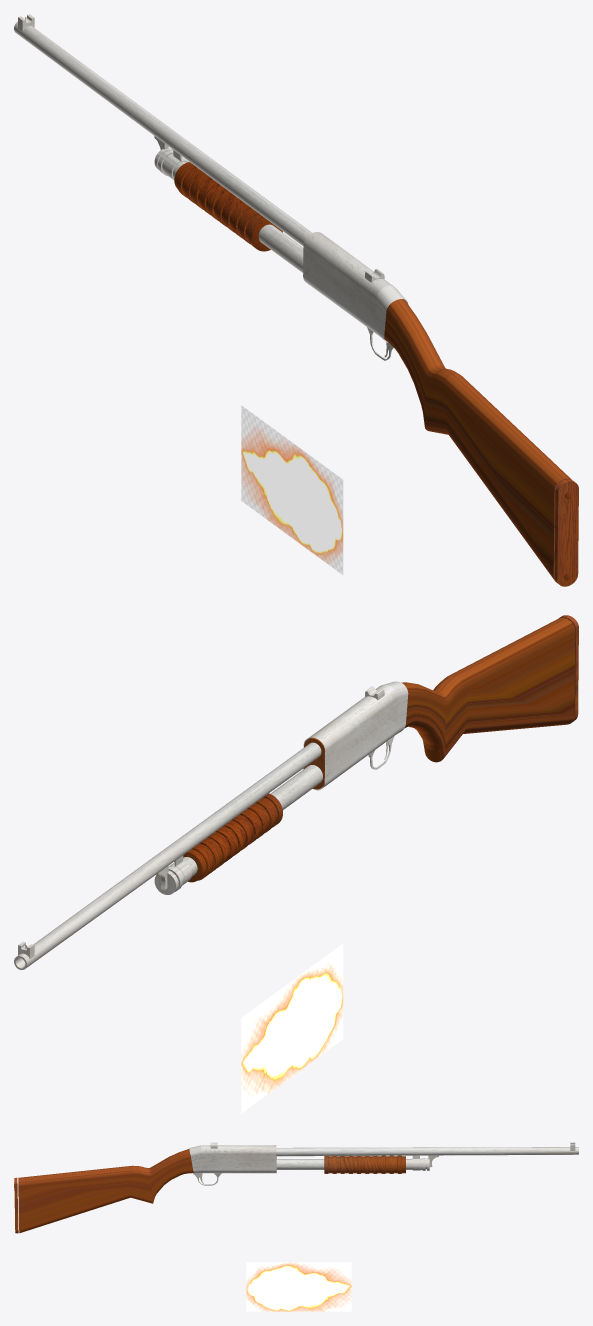
Rendered from ithaca model 37.glb.
The picture shows the model from 3 angles, top to bottom: view 1: azimuth 30°, elevation 25°; view 2: azimuth 150°, elevation 25°; view 3: azimuth 270°, elevation 25°; orthographic projection. The views are drawn at different scales.
Parts seen in each view (by area): view 1: Cube, Cube.003, Plane, Cube.001; view 2: Cube, Cube.003, Plane, Cube.001; view 3: Cube, Cube.003, Plane, Cube.001.
Part boxes in pixels (left/top/right/bottom): Cube: left=384, top=299, right=578, bottom=586; Cube.003: left=14, top=14, right=407, bottom=360; Plane: left=241, top=405, right=343, bottom=574; Cube.001: left=174, top=162, right=282, bottom=251; Cube: left=303, top=615, right=578, bottom=789; Cube.003: left=14, top=681, right=408, bottom=969; Plane: left=241, top=943, right=343, bottom=1113; Cube.001: left=174, top=793, right=282, bottom=882; Cube: left=14, top=1149, right=276, bottom=1233; Cube.003: left=189, top=1142, right=578, bottom=1185; Plane: left=246, top=1262, right=351, bottom=1311; Cube.001: left=324, top=1155, right=405, bottom=1173.
Size of the model in its own units: 0.3176 by 3.19 by 9.71.
5 materials, 5 textured.
